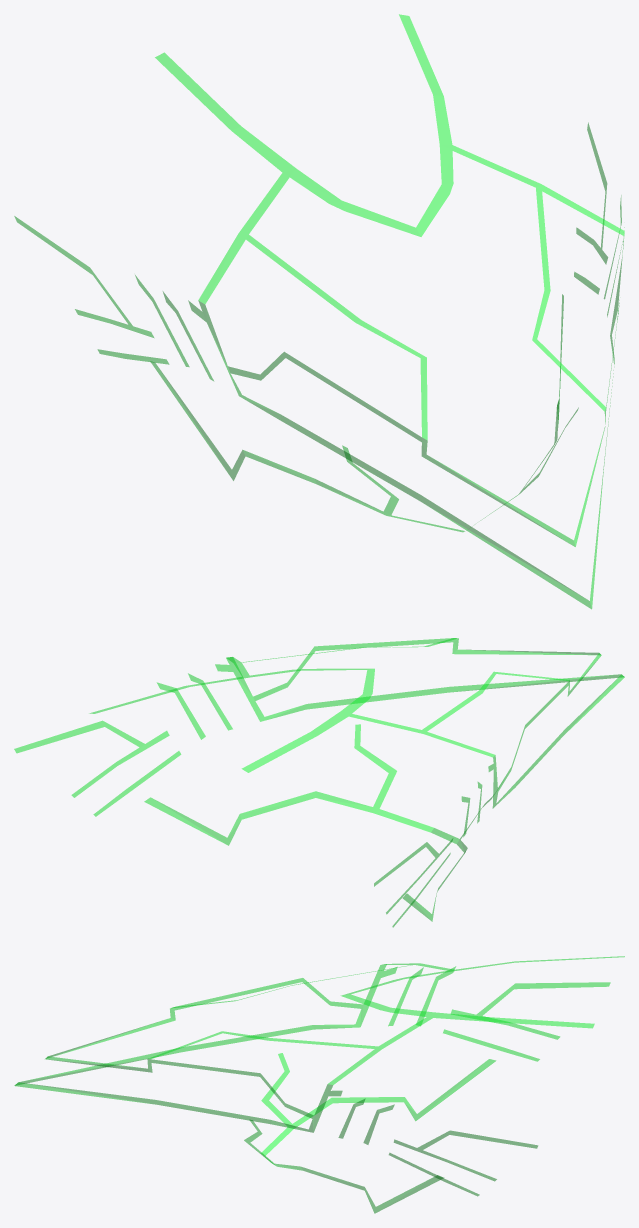
Rendered from ZXWm_052_artillery_t1_buff01.FBX.
The picture shows the model from 3 angles, top to bottom: view 1: azimuth 30°, elevation 25°; view 2: azimuth 150°, elevation 25°; view 3: azimuth 270°, elevation 25°; orthographic projection. The views are drawn at different scales.
Parts seen in each view (by area): view 1: BUFF_01; view 2: BUFF_01; view 3: BUFF_01.
Boxes of the visible parts, x1=… form: BUFF_01: x1=14, y1=14, x2=624, y2=609; BUFF_01: x1=14, y1=638, x2=624, y2=927; BUFF_01: x1=14, y1=956, x2=624, y2=1213.
Size of the model in its own units: 95.54 by 51.76 by 147.
